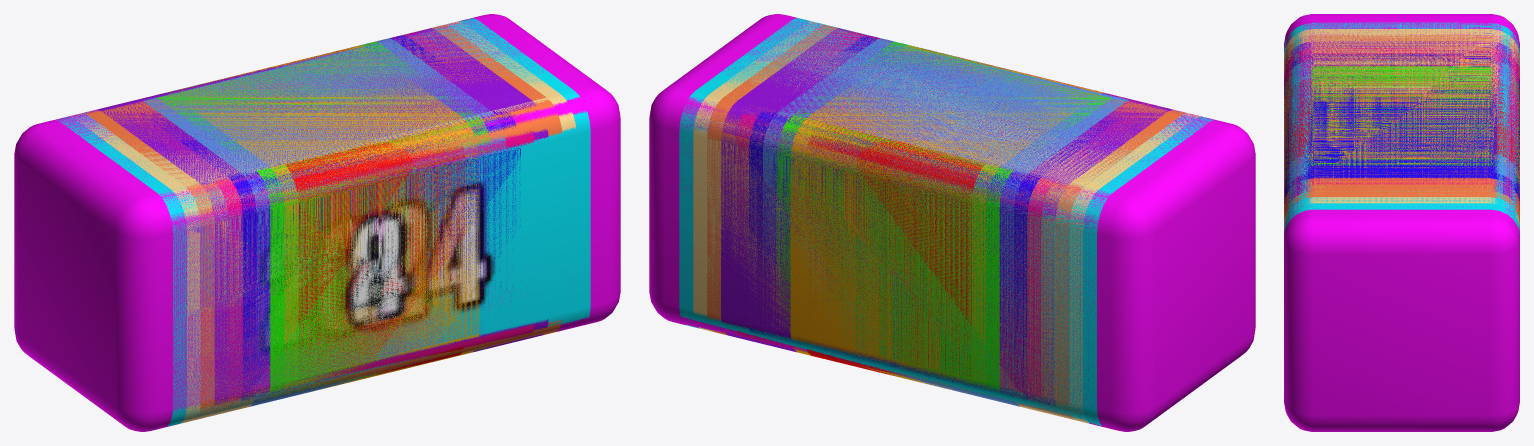
File: rounded_1.fbx
3 views of the same model, side by side, from view 1: azimuth 30°, elevation 25°; view 2: azimuth 150°, elevation 25°; view 3: azimuth 270°, elevation 25° (orthographic). The views are drawn at different scales.
Parts seen in each view (by area): view 1: 2048, 1024, 4, 8, 16, 128, 2, 256, 32, 512, 64; view 2: 2048, 4, 8, 1024, 128, 16, 512, 256, 32, 2, 64; view 3: 2048, 256, 32, 512, 8, 1024, 128, 64, 4, 16, 2.
Boxes of the visible parts, bbox=[...] form: 2048: bbox=[14, 14, 620, 431]; 1024: bbox=[56, 18, 590, 426]; 4: bbox=[167, 45, 479, 393]; 8: bbox=[157, 42, 492, 396]; 16: bbox=[142, 38, 506, 406]; 128: bbox=[97, 28, 548, 411]; 2: bbox=[246, 49, 465, 377]; 256: bbox=[84, 25, 562, 419]; 32: bbox=[153, 35, 520, 400]; 512: bbox=[71, 21, 575, 423]; 64: bbox=[121, 31, 534, 401]; 2048: bbox=[649, 14, 1255, 431]; 4: bbox=[790, 45, 1102, 390]; 8: bbox=[776, 41, 1111, 397]; 1024: bbox=[679, 18, 1213, 425]; 128: bbox=[721, 28, 1171, 409]; 16: bbox=[763, 38, 1128, 406]; 512: bbox=[693, 21, 1200, 423]; 256: bbox=[707, 25, 1185, 418]; 32: bbox=[749, 35, 1125, 399]; 2: bbox=[805, 48, 1036, 383]; 64: bbox=[735, 31, 1156, 401]; 2048: bbox=[1284, 14, 1519, 431]; 256: bbox=[1284, 35, 1519, 223]; 32: bbox=[1284, 54, 1519, 204]; 512: bbox=[1284, 29, 1519, 227]; 8: bbox=[1284, 66, 1518, 186]; 1024: bbox=[1284, 22, 1519, 233]; 128: bbox=[1285, 41, 1519, 205]; 64: bbox=[1284, 47, 1519, 208]; 4: bbox=[1284, 76, 1519, 185]; 16: bbox=[1284, 60, 1517, 186]; 2: bbox=[1287, 78, 1518, 168].
Bounding box in the file's own units: 90 × 40 × 40.
1 material, 1 textured.
